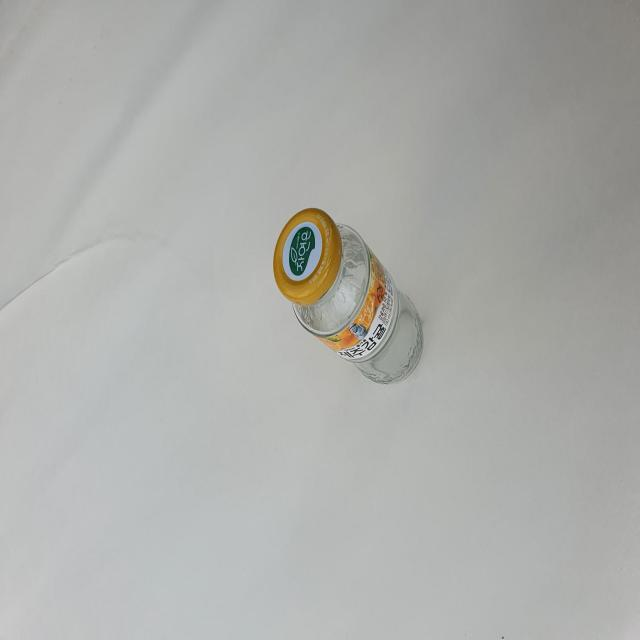glass: (274, 208, 423, 383)
